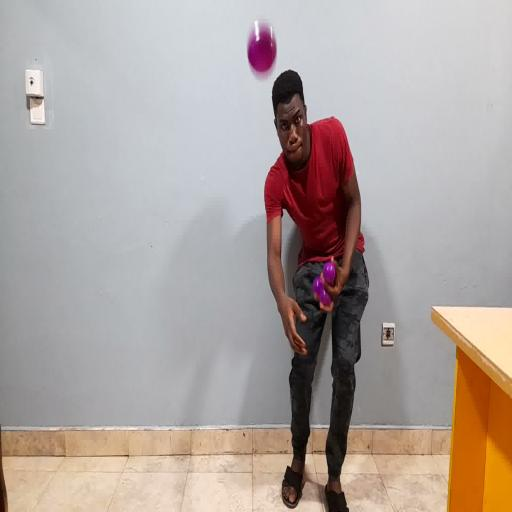plastic-ball: (245, 20, 278, 80)
